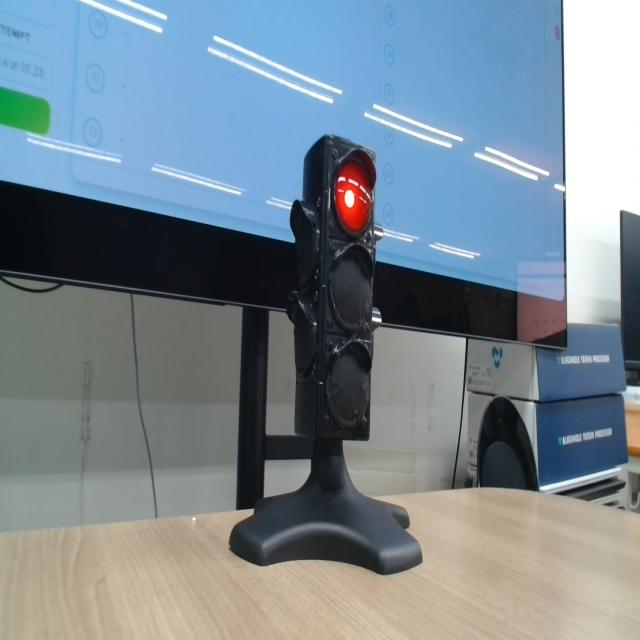red_light: (335, 161, 371, 233)
